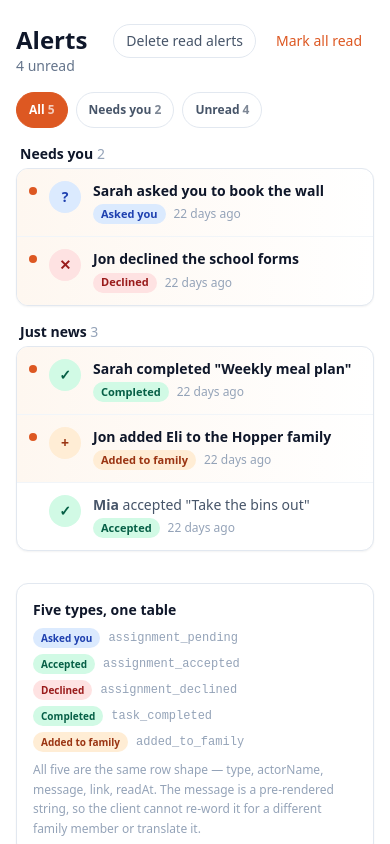
Test case: alerts page — feedback › acknowledges mark-all-read immediately and names the outcome
Click the button "Mark all read": (319, 41) [264,25,374,57]
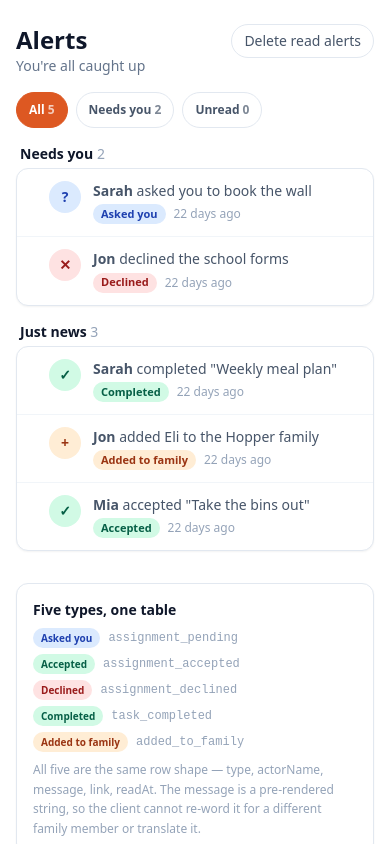
Expected: the button "Mark all read" is gone
